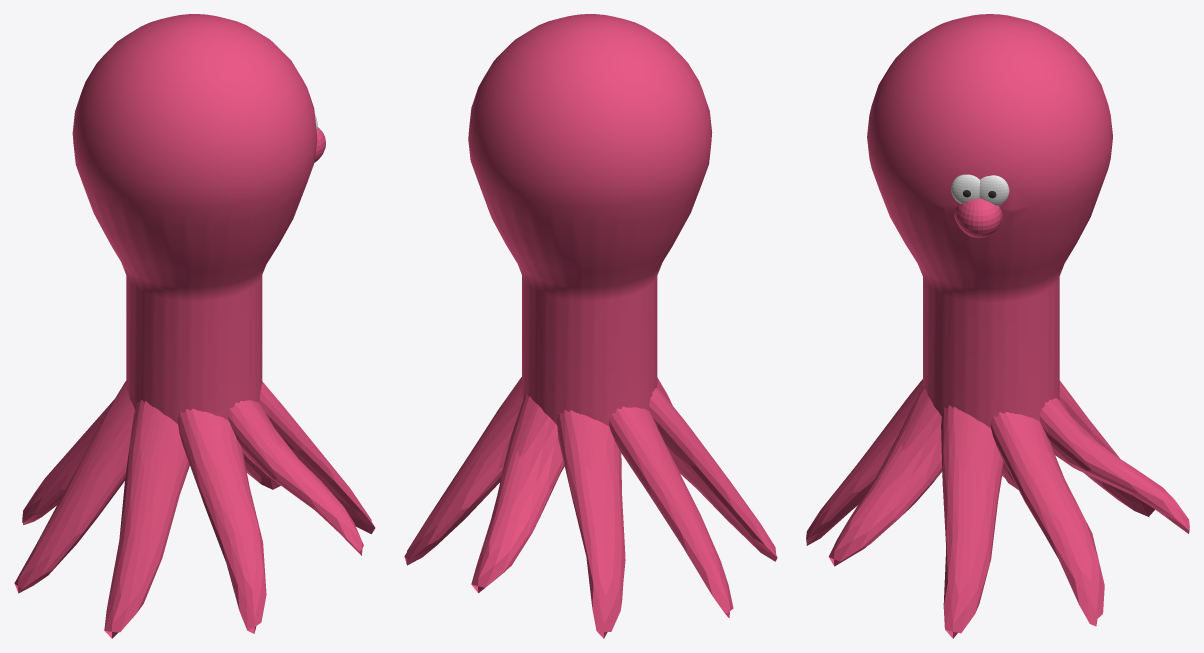
Rendered from simple_octopus.glb.
3 renders of one model, left to right at view 1: azimuth 30°, elevation 25°; view 2: azimuth 150°, elevation 25°; view 3: azimuth 270°, elevation 25°, orthographic.
Parts seen in each view (by area): view 1: Sphere, Sphere.008; view 2: Sphere, Sphere.008; view 3: Sphere, Sphere.008, Sphere.001, Sphere.003.
Part boxes in pixels (x1,y1,x2,y2): Sphere: (72,14,317,423); Sphere.008: (14,381,375,638); Sphere: (468,14,712,426); Sphere.008: (404,377,777,638); Sphere: (867,14,1112,428); Sphere.008: (806,379,1189,638); Sphere.001: (954,198,1002,237); Sphere.003: (951,174,1009,205).
Bounding box in the file's own units: 6.25 × 10.22 × 6.52.
